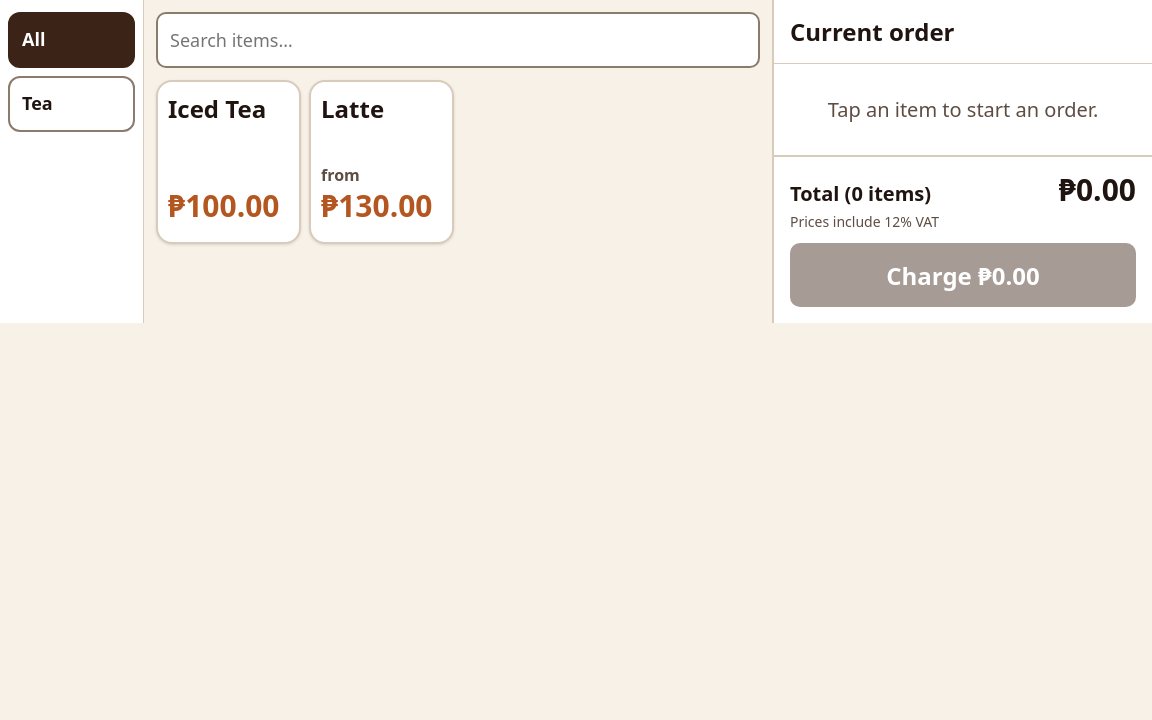
it: PosPage › requires a mandatory modifier and prices the chosen size plus modifier
Click the button "Latte from ₱130.00": click(382, 162) [309, 80, 454, 244]
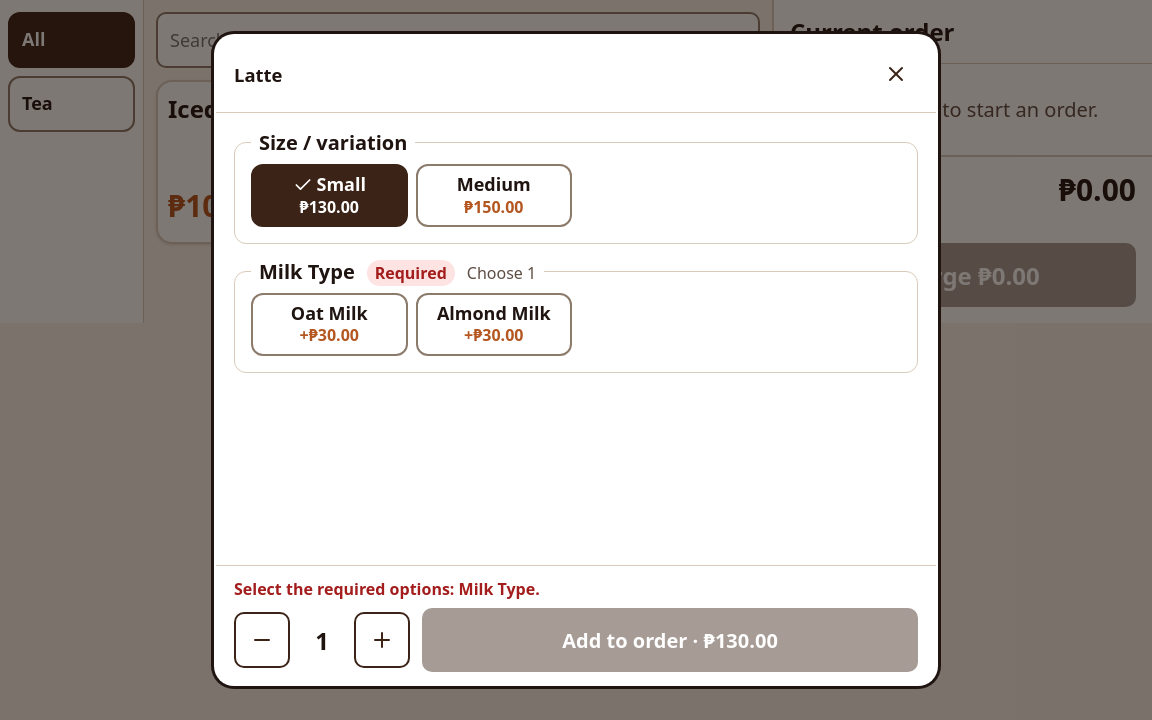
Expected: the button "Add to order · ₱130.00" is disabled, [422, 608, 918, 672]
Expected: the message reads "Select the required options: Milk Type.", [234, 578, 540, 600]
Click the radio button labelled "Medium ₱150.00": click(494, 195) [416, 164, 572, 227]
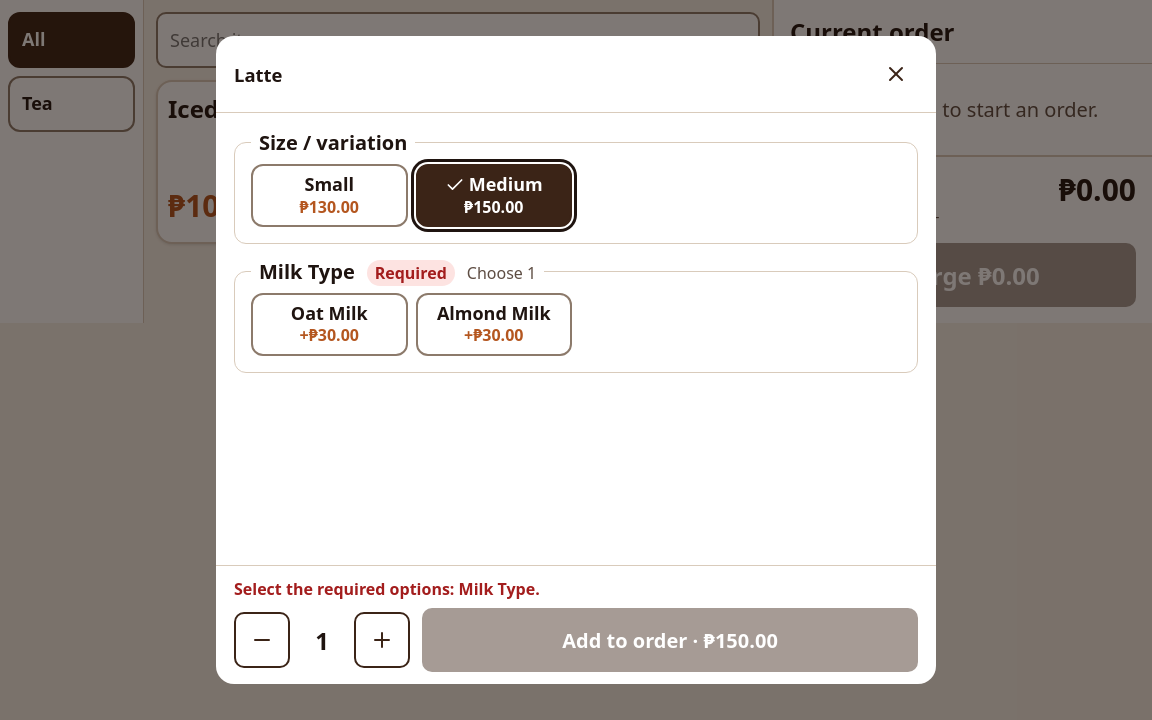
Click the radio button labelled "Oat Milk +₱30.00": click(329, 324) [251, 293, 408, 356]
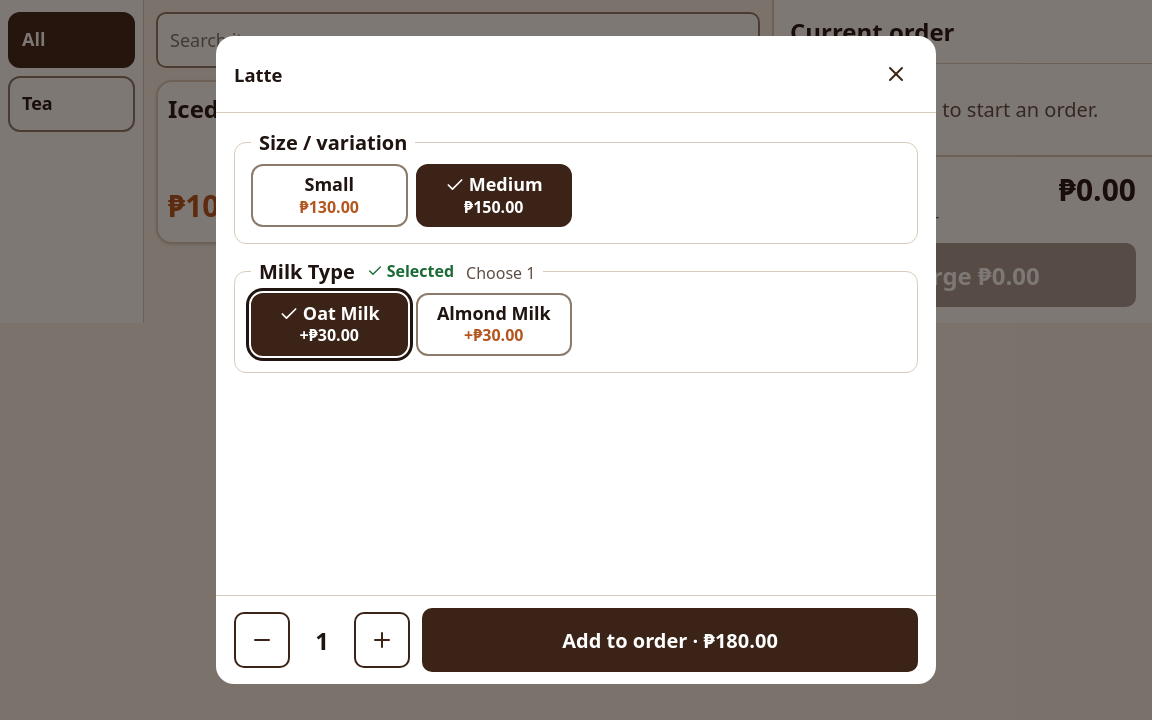
Expected: the button "Add to order · ₱180.00" is enabled
Expected: the button "Add to order · ₱180.00" is shown
Click the button "Add to order · ₱180.00": click(670, 640) [422, 608, 918, 672]
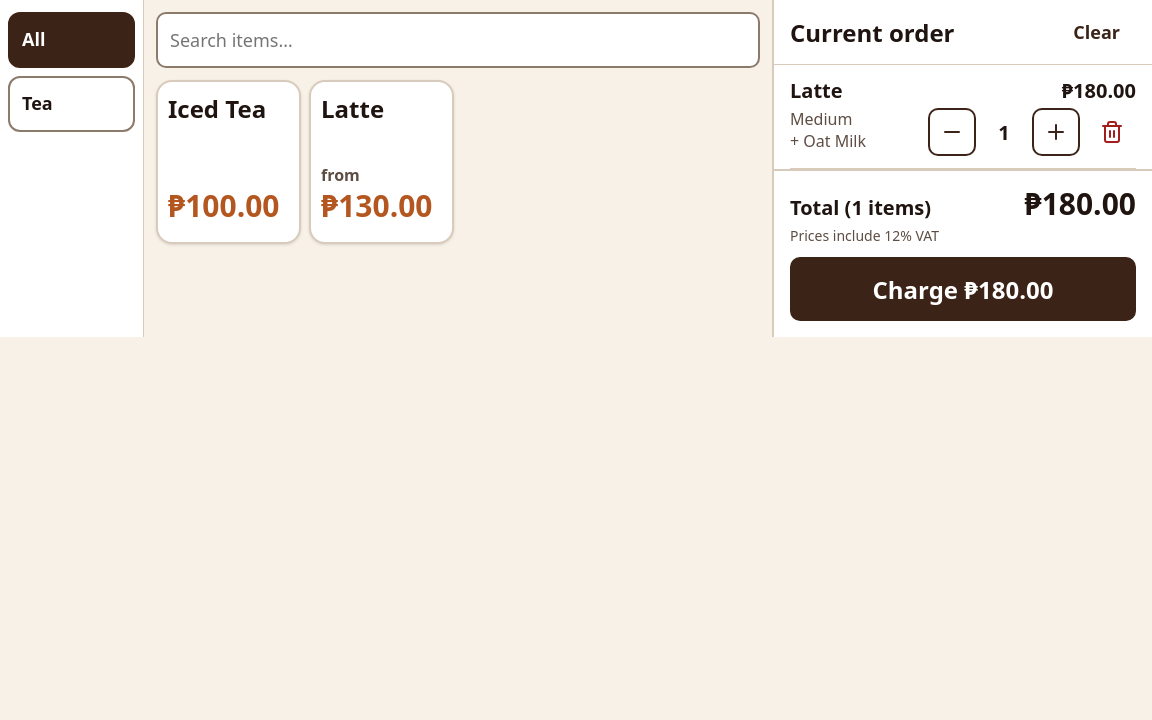
Expected: the text "+ Oat Milk" is shown, [790, 130, 866, 152]
Expected: the button "Charge ₱180.00" is shown, [790, 257, 1136, 321]
